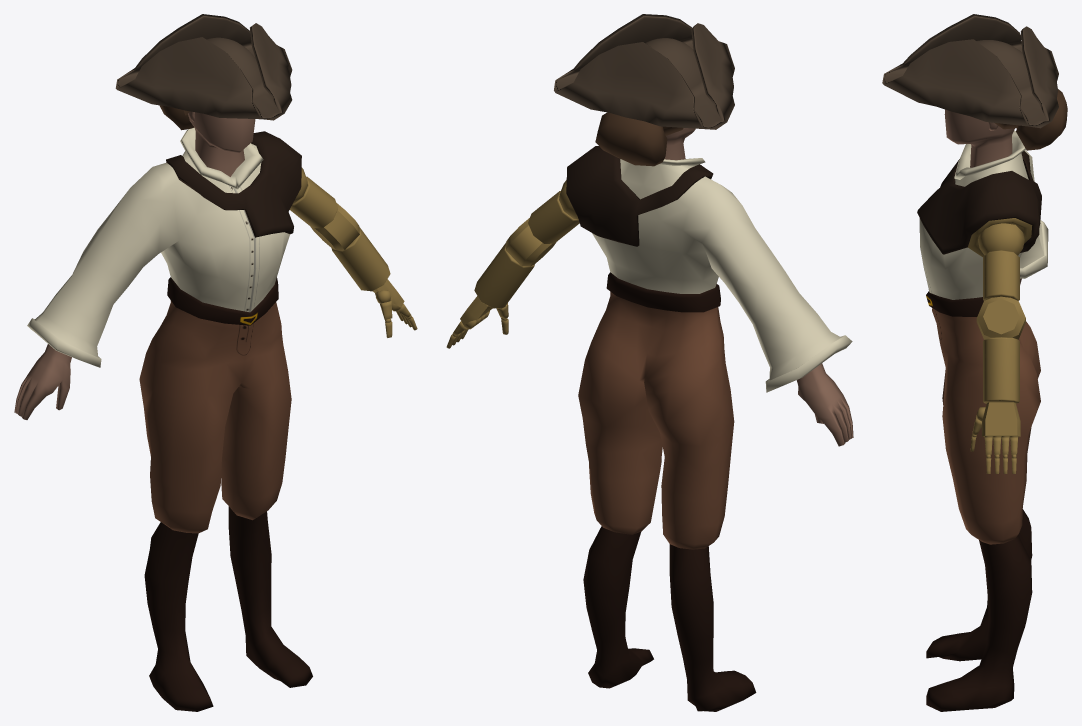
Rendered from Pirate Model.fbx.
The picture shows the model from 3 angles, left to right: view 1: azimuth 30°, elevation 25°; view 2: azimuth 150°, elevation 25°; view 3: azimuth 270°, elevation 25°; orthographic projection. The views are drawn at different scales.
Visible parts, largest first — view 1: Pirate_5, Pirate_3, Pirate_4, Pirate_2, Pirate_Arm_7, Pirate_Arm, Pirate_Arm_8; view 2: Pirate_5, Pirate_3, Pirate_4, Pirate_2, Pirate_1, Pirate_Arm_7, Pirate_Arm, Pirate_Arm_8; view 3: Pirate_5, Pirate_3, Pirate_4, Pirate_Arm, Pirate_Arm_7, Pirate_2, Pirate_Arm_8, Pirate_1, Pirate_Arm_3.
Boxes of the visible parts, x1,y1,x2,y2 form: Pirate_5: (27,127,312,711); Pirate_3: (115,14,292,120); Pirate_4: (166,131,301,237); Pirate_2: (14,111,255,419); Pirate_Arm_7: (331,227,390,291); Pirate_Arm: (289,167,337,228); Pirate_Arm_8: (311,203,359,250); Pirate_5: (578,158,852,711); Pirate_3: (554,14,734,129); Pirate_4: (566,146,713,246); Pirate_2: (664,128,853,446); Pirate_1: (595,112,683,166); Pirate_Arm_7: (474,242,534,308); Pirate_Arm: (528,180,579,243); Pirate_Arm_8: (506,218,556,266); Pirate_5: (919,130,1048,711); Pirate_3: (882,14,1058,128); Pirate_4: (917,151,1041,256); Pirate_Arm: (978,223,1024,300); Pirate_Arm_7: (983,337,1019,403); Pirate_2: (944,109,1021,284); Pirate_Arm_8: (976,296,1025,339); Pirate_1: (995,89,1067,150); Pirate_Arm_3: (982,402,1020,436).
Bounding box in the file's own units: 11.71 × 18.73 × 4.81.
6 materials, 1 textured.
